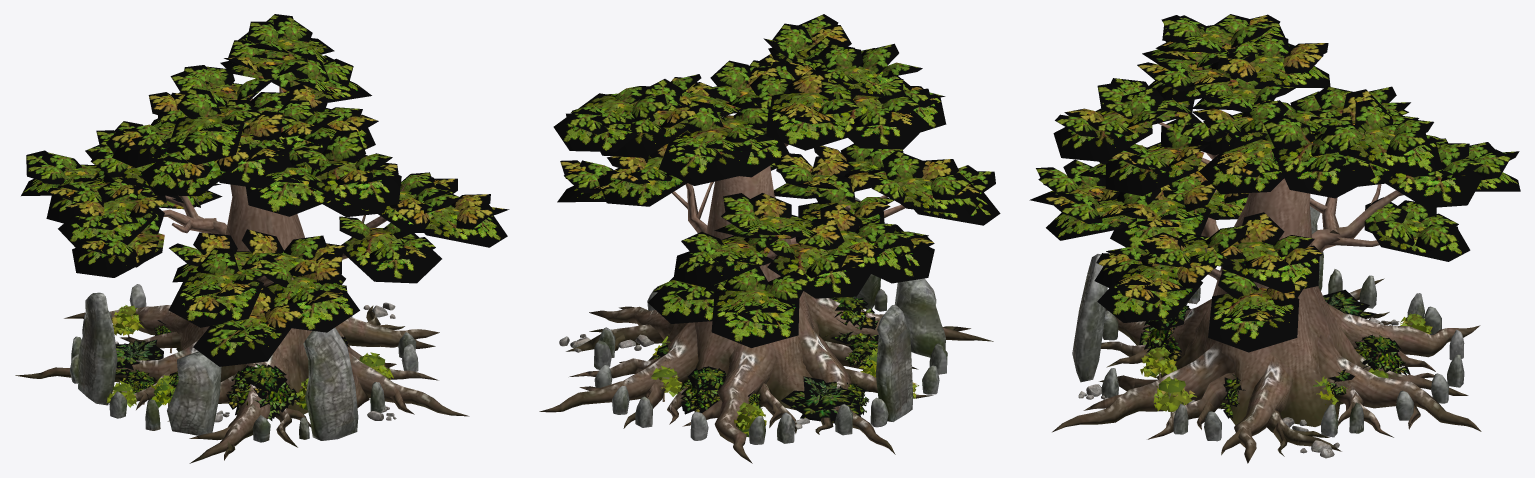
The model's file is 87-wonder-thor.glb.
The picture shows the model from 3 angles, left to right: view 1: azimuth 30°, elevation 25°; view 2: azimuth 150°, elevation 25°; view 3: azimuth 270°, elevation 25°; orthographic projection. The views are drawn at different scales.
Bounding box in the file's own units: 17.95 × 14.09 × 18.7.
Materials: 13 (13 with a texture image).
